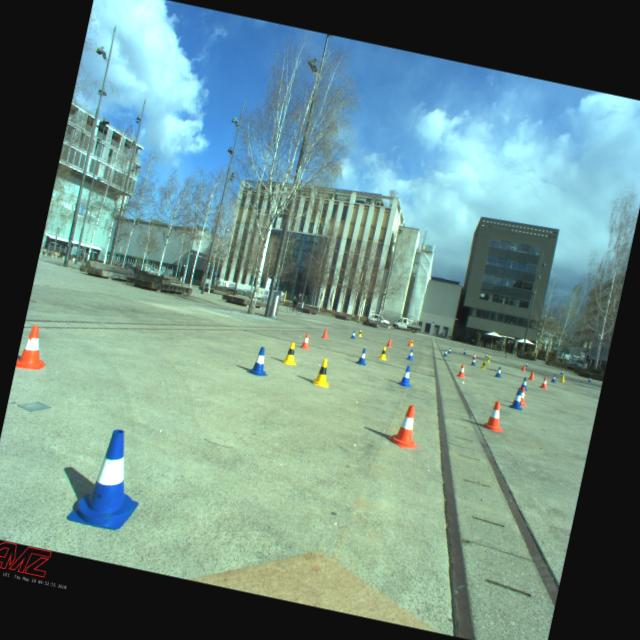blue_cone: (65, 422, 152, 534), (245, 344, 272, 377), (396, 363, 416, 388), (508, 386, 526, 409), (356, 347, 368, 365), (518, 376, 530, 391), (406, 348, 416, 361), (493, 366, 502, 378), (349, 329, 356, 338), (550, 373, 557, 382), (470, 357, 477, 366), (442, 348, 448, 356), (447, 347, 452, 354), (462, 348, 467, 354), (560, 369, 564, 375), (484, 352, 488, 358), (525, 362, 529, 366)
orange_cone: (386, 402, 426, 451), (15, 322, 53, 372), (481, 399, 508, 433), (514, 386, 530, 406), (300, 332, 313, 350), (456, 363, 468, 378), (539, 376, 549, 389), (321, 328, 329, 339), (528, 370, 536, 380), (386, 338, 393, 348), (520, 364, 526, 371), (407, 339, 412, 346), (472, 353, 476, 360)
yellow_cone: (312, 357, 334, 387), (280, 340, 300, 366), (378, 346, 388, 360), (480, 359, 488, 369), (559, 374, 566, 382), (357, 328, 363, 336), (409, 339, 414, 346), (486, 355, 490, 362)
